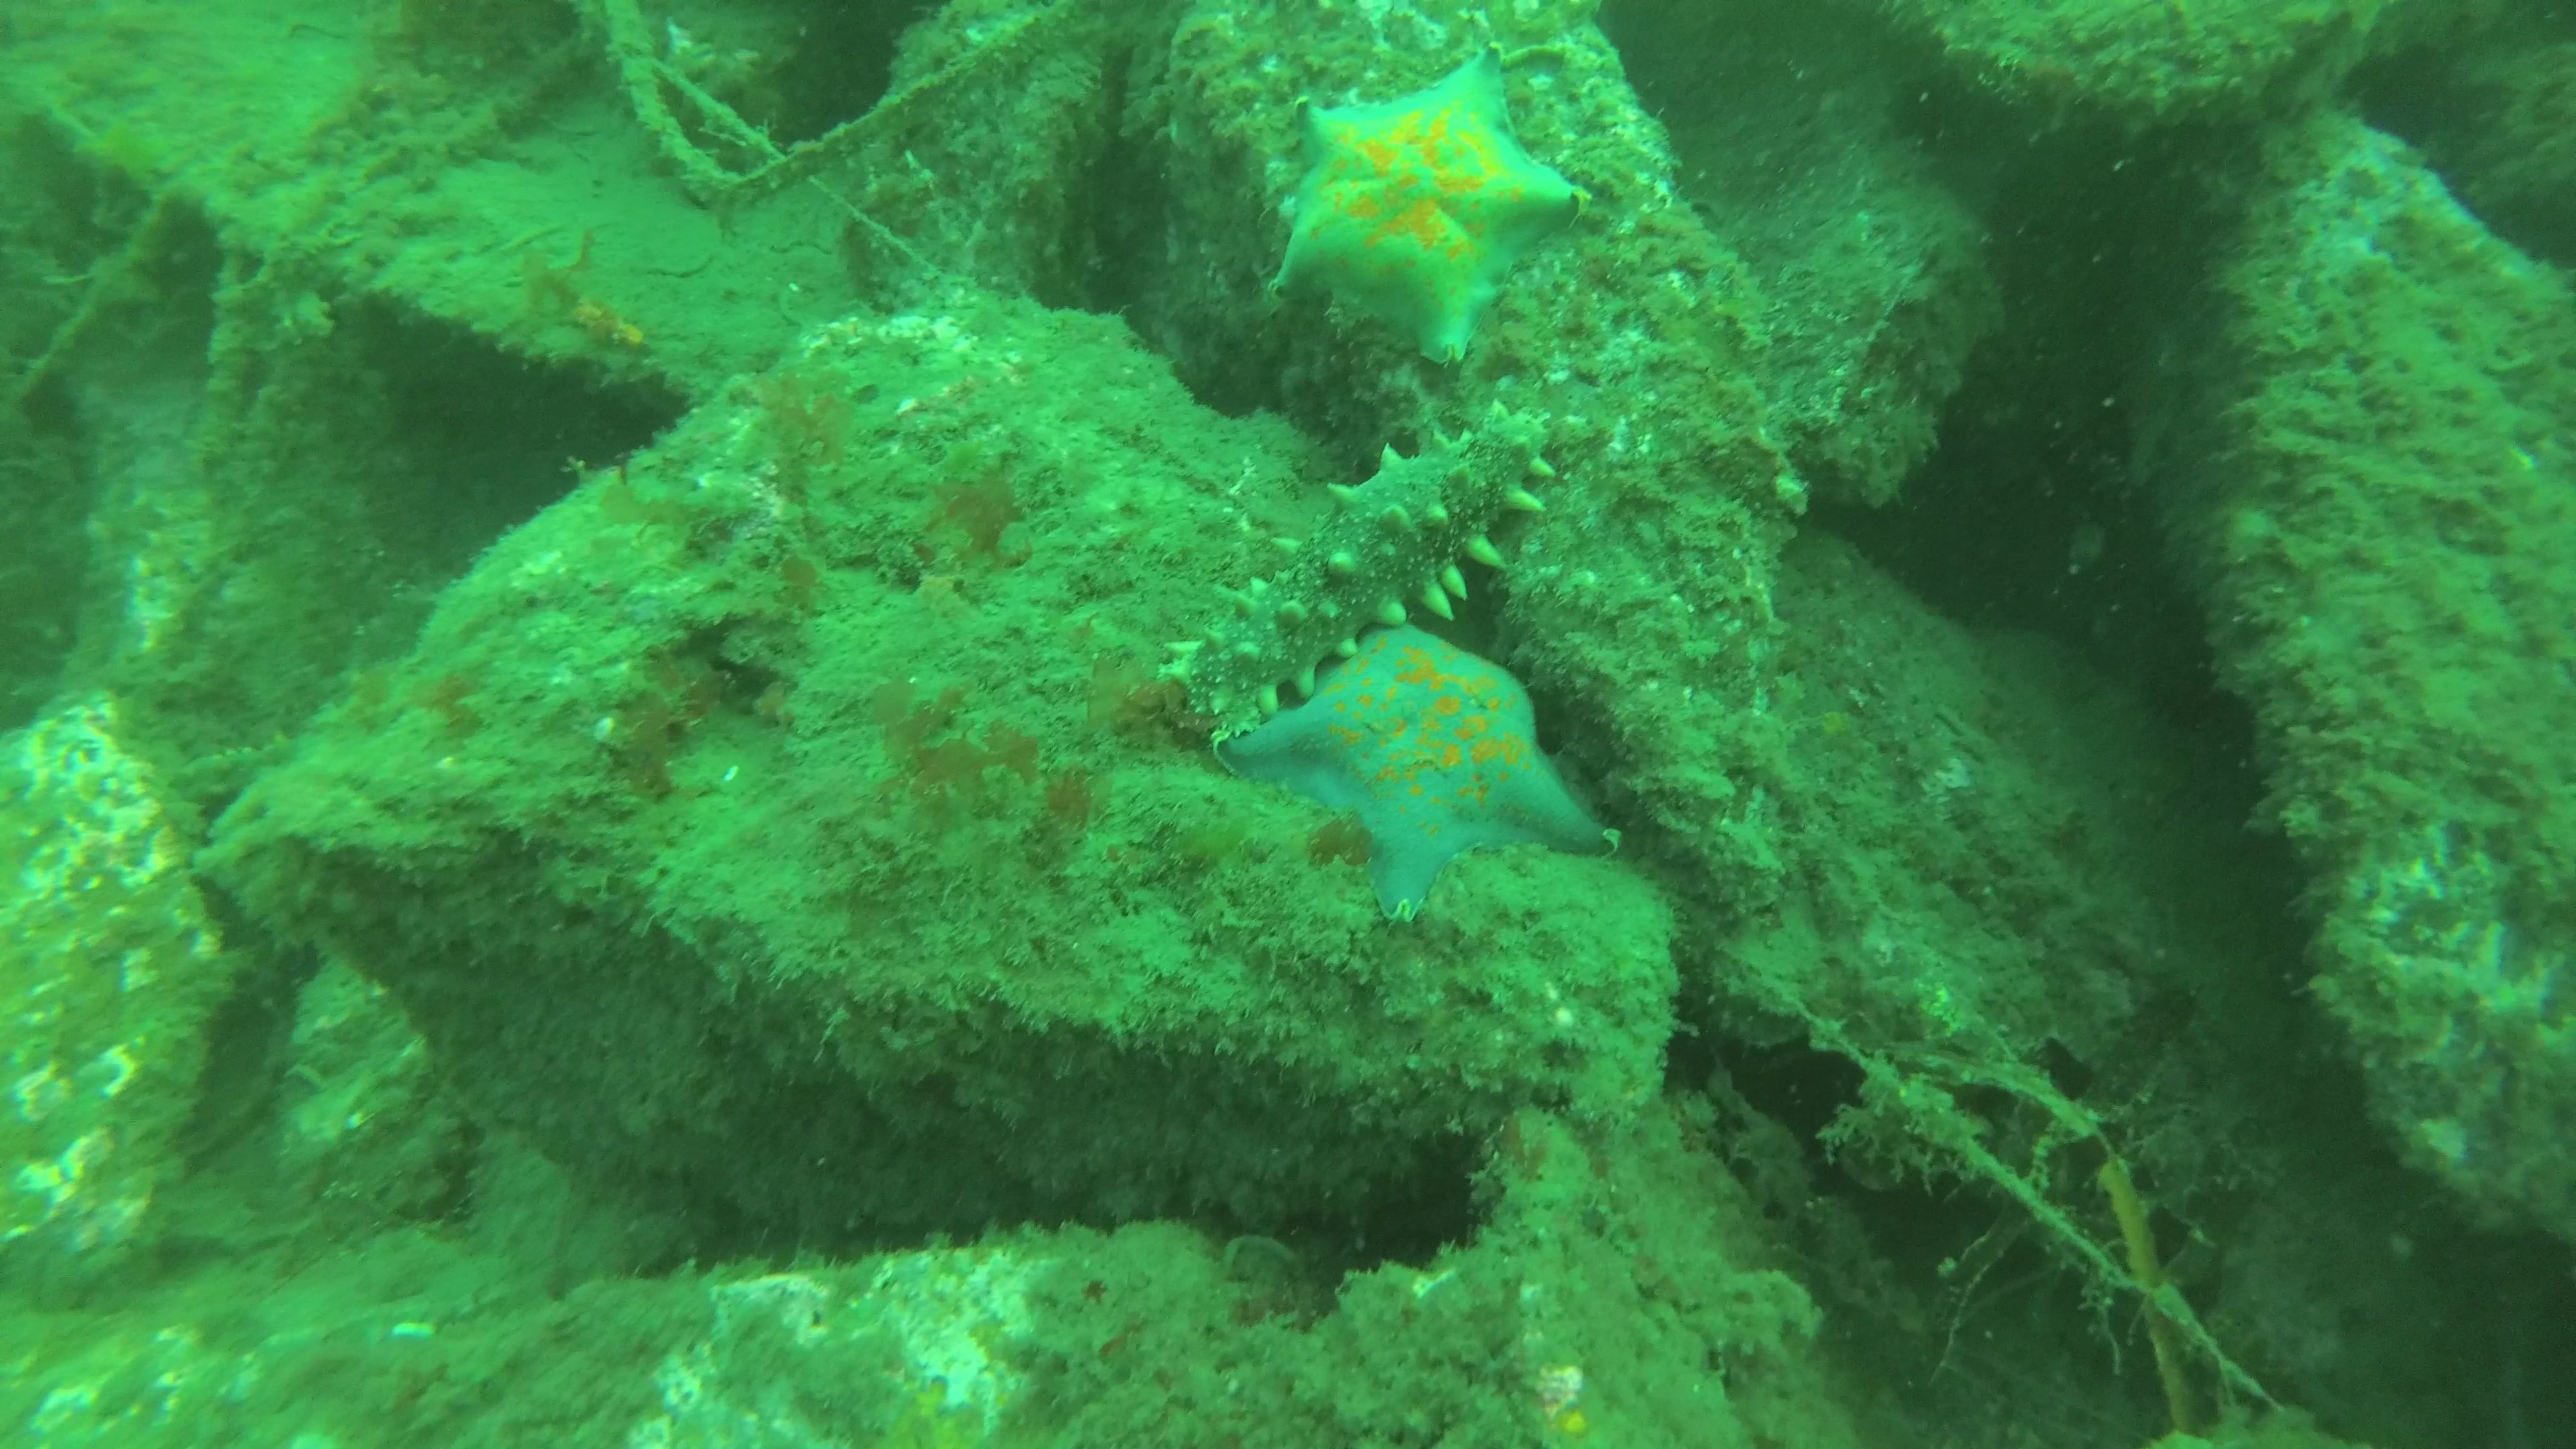holothurian: (1168, 403, 1569, 722)
starfish: (1194, 566, 1626, 929), (1260, 44, 1601, 372)
